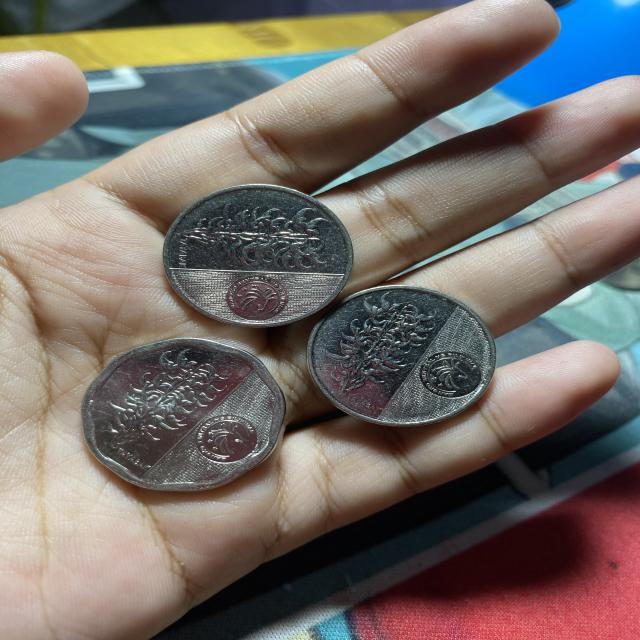5_New_Back: (98, 346, 235, 438), (183, 202, 337, 269), (335, 294, 423, 395)
